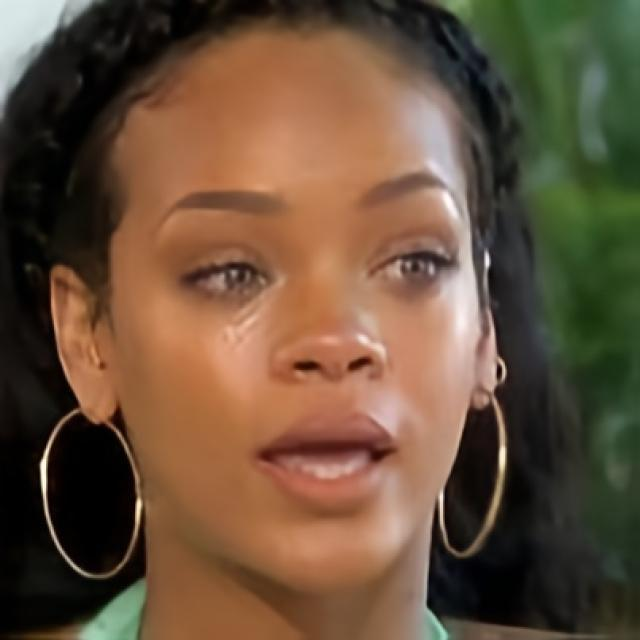sad: (111, 22, 480, 584)
